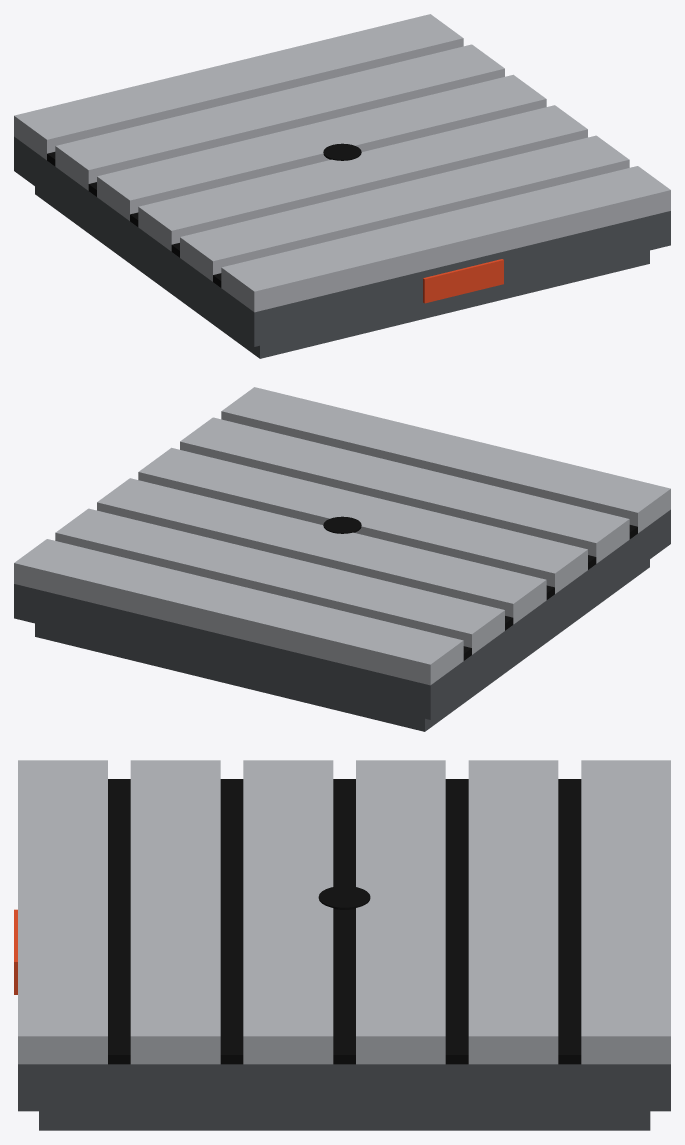
Rendered from pallet_B.glb.
The picture shows the model from 3 angles, top to bottom: view 1: azimuth 30°, elevation 25°; view 2: azimuth 150°, elevation 25°; view 3: azimuth 270°, elevation 25°; orthographic projection. The views are drawn at different scales.
Visible parts, largest first — view 1: pallet_body__steel, pallet_body__steel_dark, pallet_body__yellow, pallet_body__rubber; view 2: pallet_body__steel, pallet_body__steel_dark, pallet_body__rubber; view 3: pallet_body__steel, pallet_body__steel_dark, pallet_body__rubber.
Boxes of the visible parts, x1,y1,x2,y2 form: pallet_body__steel: (14,14,670,312); pallet_body__steel_dark: (14,136,670,358); pallet_body__yellow: (423,259,503,303); pallet_body__rubber: (47,143,361,287); pallet_body__steel: (14,387,670,685); pallet_body__steel_dark: (14,509,670,731); pallet_body__rubber: (323,516,637,660); pallet_body__steel: (18,760,670,1064); pallet_body__steel_dark: (18,1064,670,1130); pallet_body__rubber: (108,779,581,1064).
Size of the model in its own units: 0.63 by 0.1115 by 0.634.
